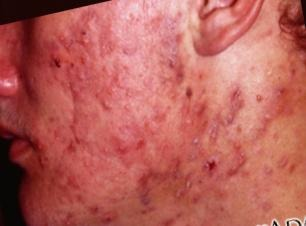Acne: (34, 0, 289, 220)
